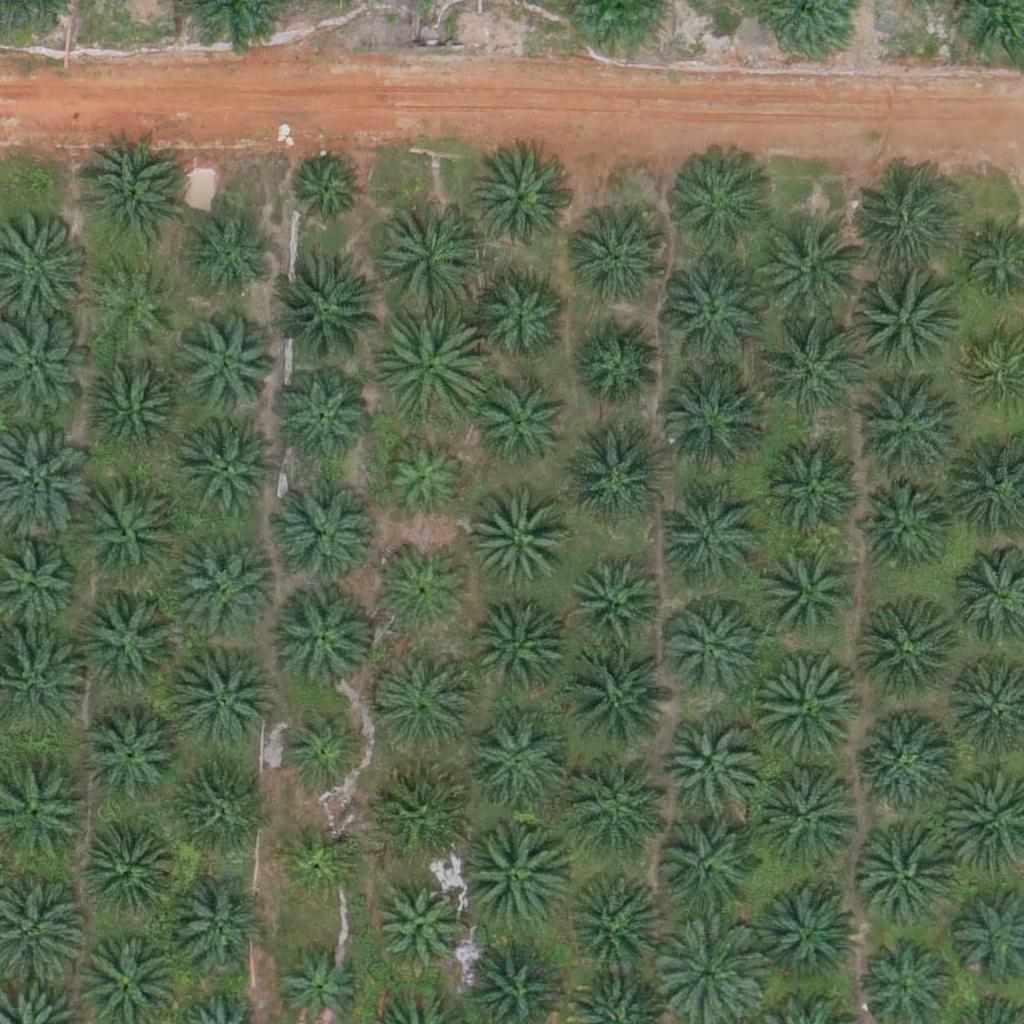Kelapa_Sawit: (269, 261, 382, 375), (651, 360, 764, 474), (73, 476, 186, 589), (77, 139, 190, 252), (379, 210, 492, 323), (451, 817, 564, 930), (650, 255, 763, 368), (750, 655, 863, 768), (752, 210, 865, 323), (846, 266, 959, 379), (379, 313, 491, 427), (658, 472, 770, 586), (73, 586, 185, 699), (171, 529, 283, 642), (167, 644, 279, 757), (371, 644, 483, 757), (560, 644, 672, 757), (664, 146, 776, 259), (752, 759, 864, 872), (755, 314, 867, 427), (845, 173, 957, 286), (84, 820, 184, 921), (84, 703, 184, 804), (82, 358, 182, 459), (173, 423, 273, 524), (168, 767, 268, 868), (173, 876, 273, 977), (271, 587, 371, 688), (383, 763, 483, 864), (471, 153, 571, 254), (466, 498, 566, 599), (465, 710, 565, 811), (559, 870, 659, 971), (569, 770, 669, 871), (565, 425, 665, 526), (569, 204, 669, 305), (663, 597, 763, 698), (660, 713, 760, 814), (758, 878, 858, 979), (760, 440, 860, 541), (759, 544, 859, 645), (856, 379, 956, 480), (853, 601, 953, 702), (859, 709, 959, 810), (858, 834, 958, 935), (184, 316, 284, 416), (271, 364, 371, 464), (273, 485, 373, 585), (471, 596, 571, 696), (653, 820, 753, 920), (853, 479, 953, 579), (186, 213, 274, 301), (277, 815, 365, 903), (277, 702, 365, 790), (372, 883, 460, 971), (386, 435, 474, 523), (90, 264, 177, 353), (381, 546, 468, 634), (475, 274, 562, 362), (479, 381, 566, 469), (570, 555, 657, 643), (573, 316, 660, 404), (289, 154, 364, 229)
